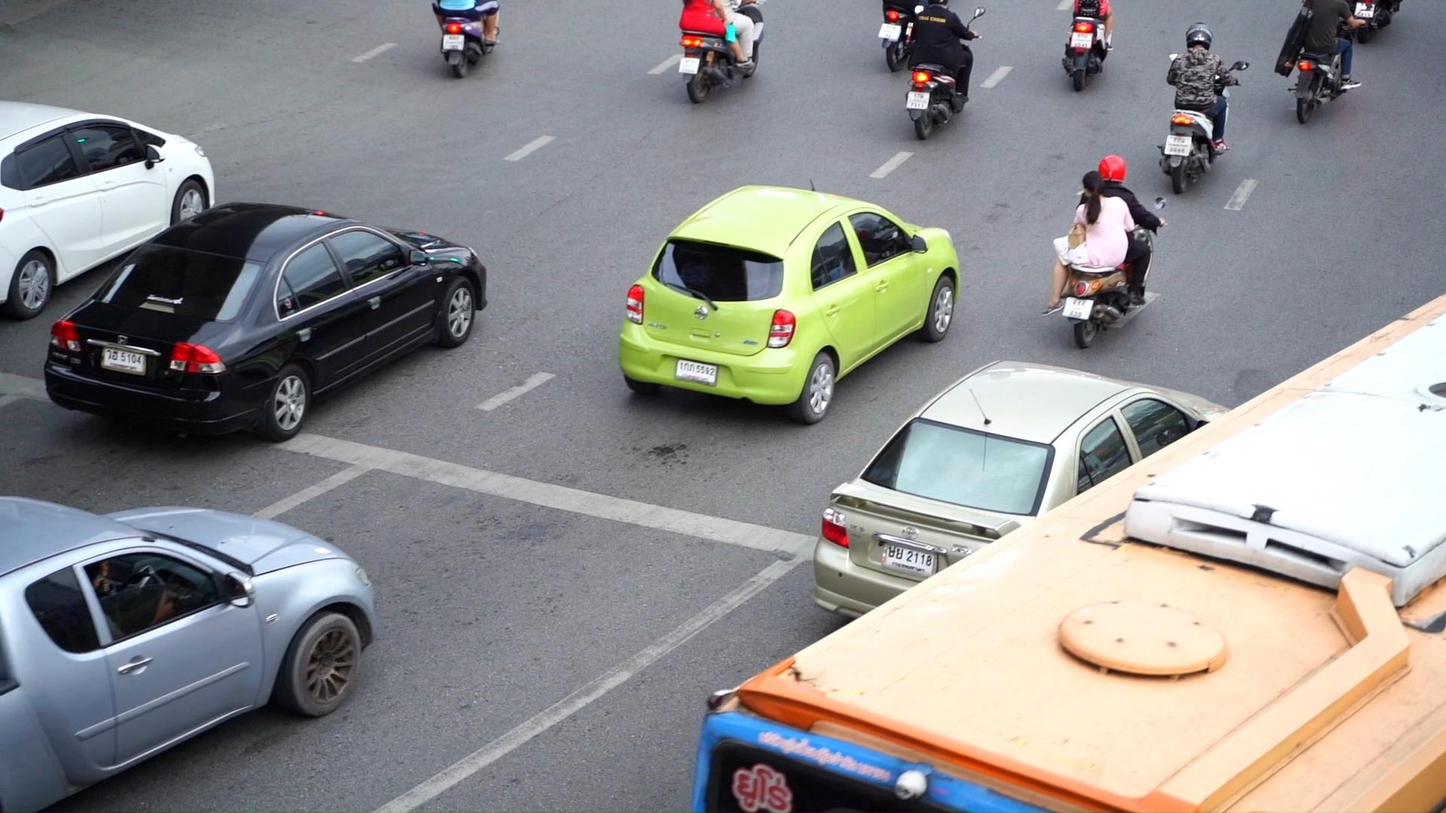driver: (1040, 155, 1169, 349), (1158, 21, 1249, 194), (1274, 0, 1373, 124), (905, 0, 985, 141), (679, 0, 765, 103), (1060, 0, 1114, 92)
helmet: (1185, 22, 1213, 51), (1099, 155, 1126, 184)
no-helmet: (1082, 170, 1104, 198)
